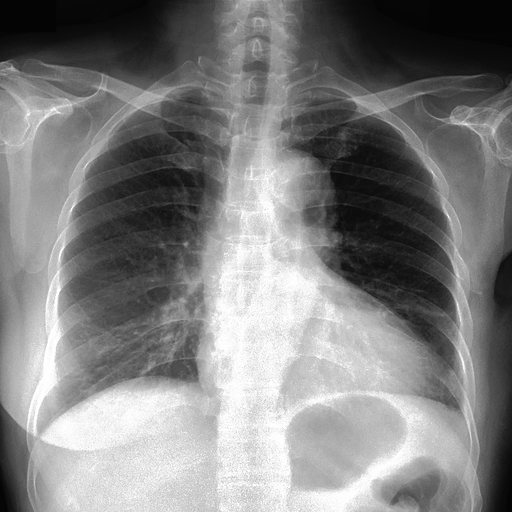Calcification: (161, 82, 216, 101), (298, 87, 346, 100)
Consolidation: (253, 147, 339, 225)
Nodule/Mass: (194, 339, 444, 402)
